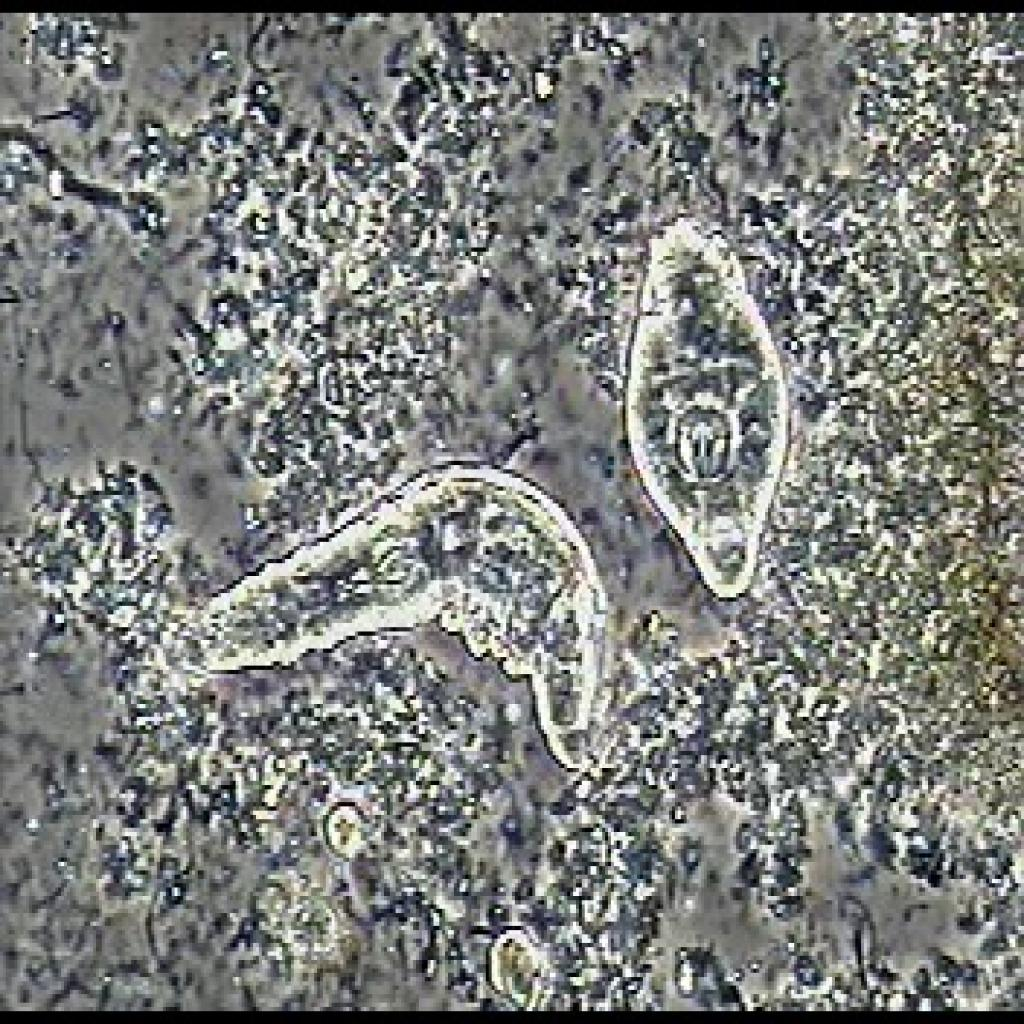Rotatoria: (135, 452, 618, 785), (614, 184, 806, 632)
